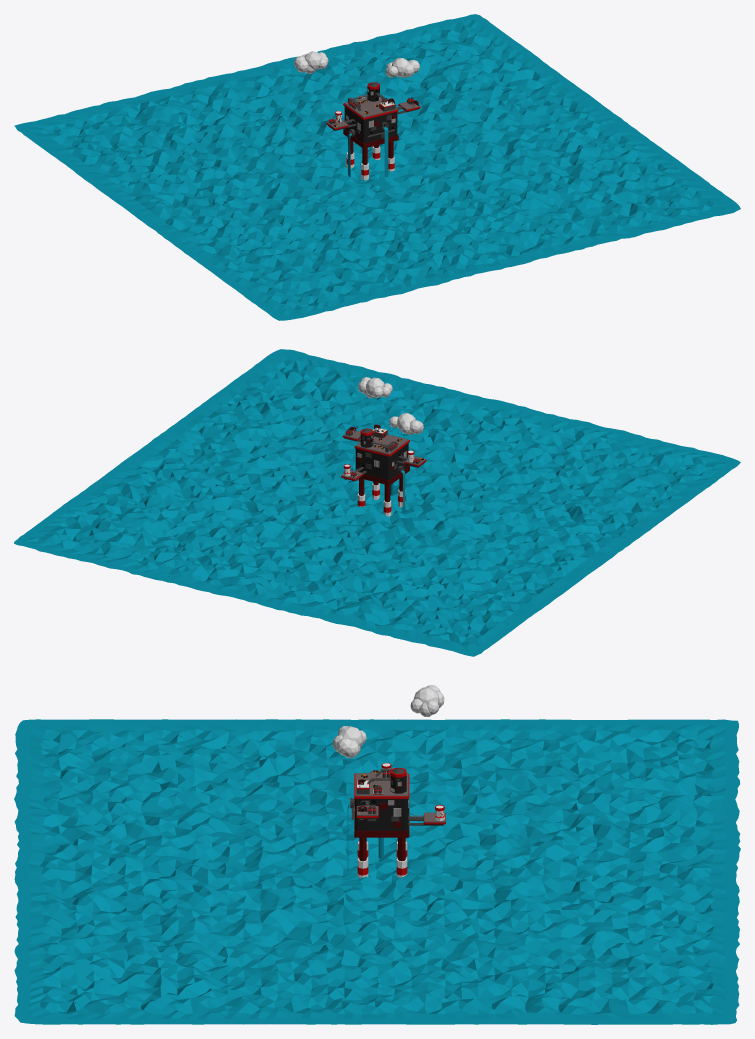
File: Low Poly Oil Rig.fbx
The picture shows the model from 3 angles, top to bottom: view 1: azimuth 30°, elevation 25°; view 2: azimuth 150°, elevation 25°; view 3: azimuth 270°, elevation 25°; orthographic projection. The views are drawn at different scales.
Visible parts, largest first — view 1: Plane001, GeoSphere001, Box001, Cylinder034; view 2: Plane001, GeoSphere001, Box001, Cylinder034; view 3: Plane001, GeoSphere001, Box001, Cylinder034, Box006.
Part boxes in pixels (x1,y1,x2,y2): Plane001: (14, 14, 740, 320); GeoSphere001: (294, 51, 419, 77); Box001: (344, 106, 397, 143); Cylinder034: (346, 138, 394, 180); Plane001: (14, 349, 740, 656); GeoSphere001: (358, 377, 423, 434); Box001: (355, 443, 408, 480); Cylinder034: (357, 476, 405, 516); Plane001: (14, 719, 740, 1024); GeoSphere001: (332, 685, 444, 758); Box001: (355, 799, 408, 830); Cylinder034: (357, 837, 407, 877); Box006: (355, 773, 408, 796).
Bounding box in the file's own units: 541 × 134 × 544.
